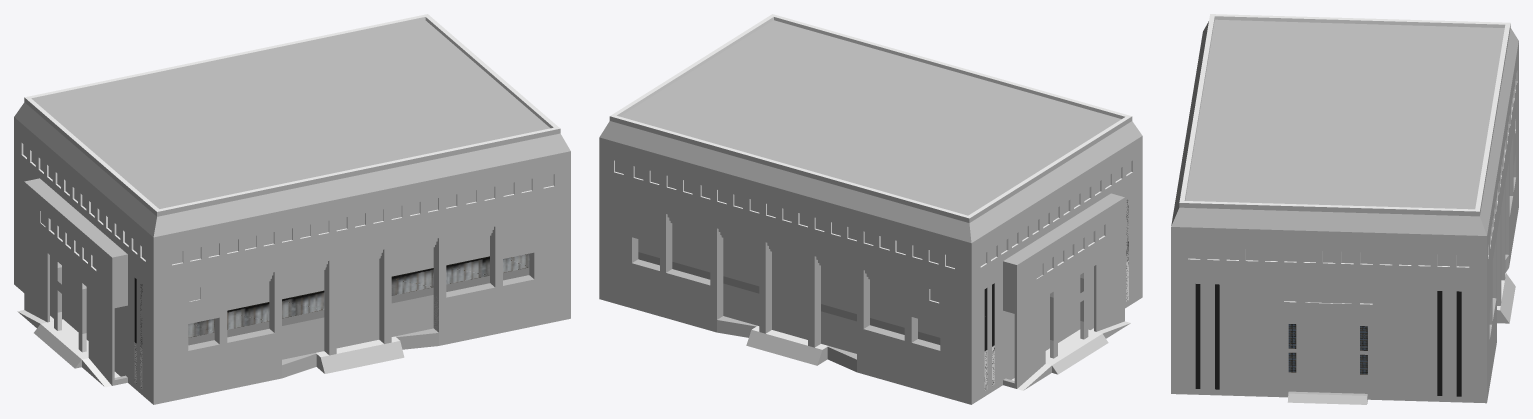
Rendered from 師大體育館外觀.dae.
The picture shows the model from 3 angles, left to right: view 1: azimuth 30°, elevation 25°; view 2: azimuth 150°, elevation 25°; view 3: azimuth 270°, elevation 25°; orthographic projection. The views are drawn at different scales.
Parts seen in each view (by area): view 1: group_0 (×37); view 2: group_0 (×33); view 3: group_0 (×26).
Boxes of the visible parts, left/top/right/bottom form: group_0 (×37): left=14, top=14, right=570, bottom=404; group_0 (×33): left=599, top=14, right=1142, bottom=404; group_0 (×26): left=1171, top=14, right=1518, bottom=404.
Bounding box in the file's own units: 2512 × 1702 × 1016.
